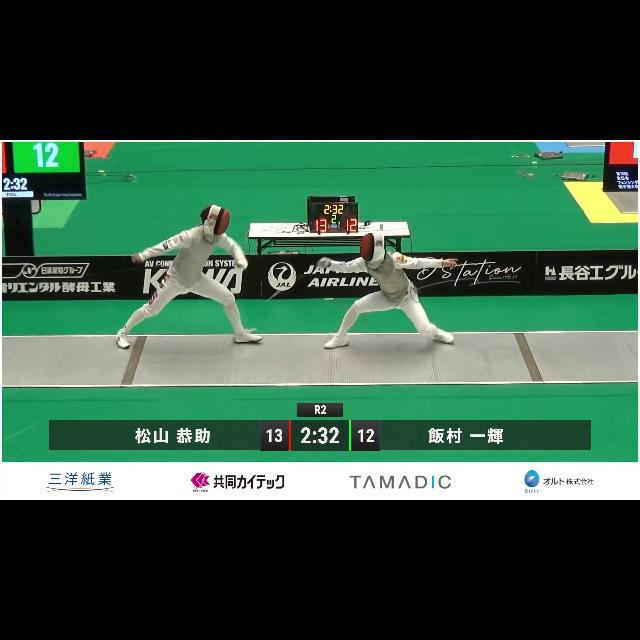blade: (262, 258, 332, 308)
